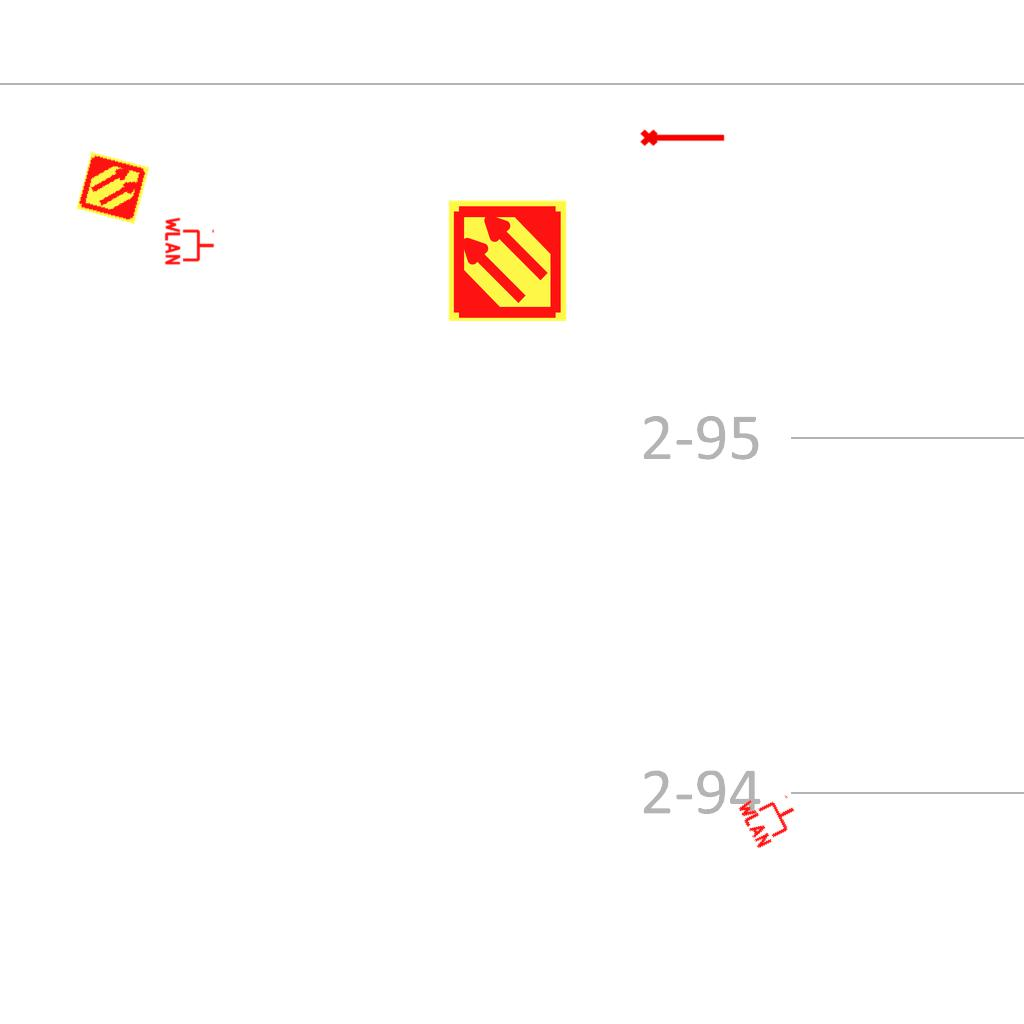ASR_Ansaugoeffnung: (639, 125, 727, 148)
ASR_Ansaugrauchmelder: (445, 198, 570, 323), (75, 150, 151, 226)
WLAN: (735, 781, 805, 851), (164, 215, 216, 267)
